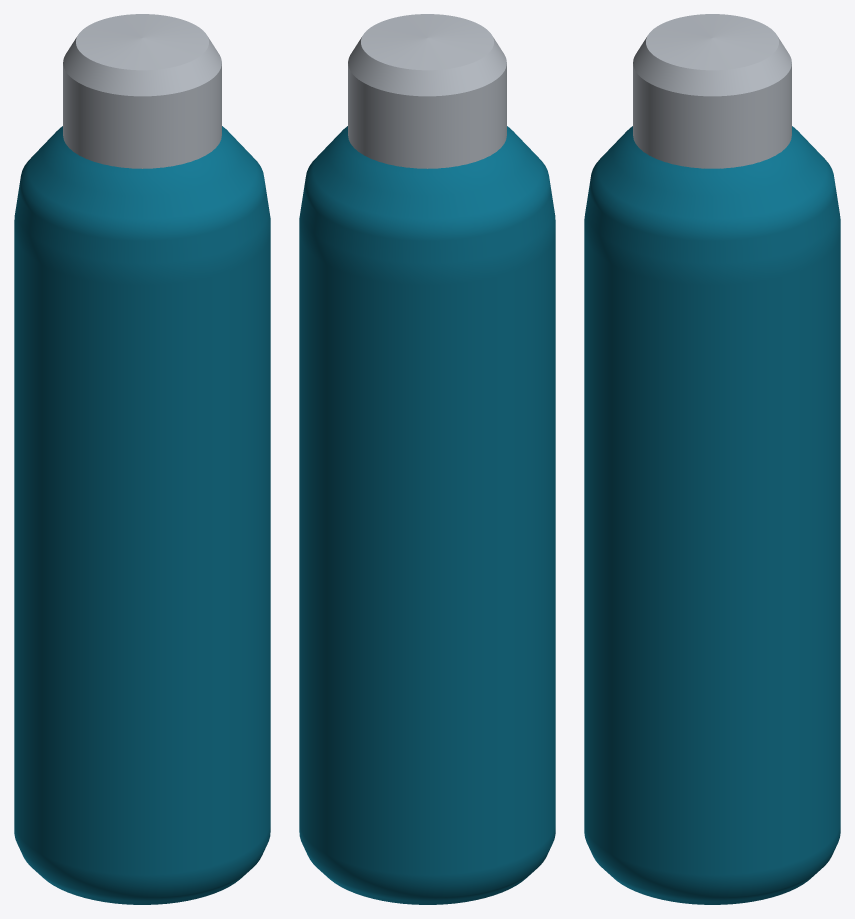
The model's file is water-bottle.glb.
3 views of the same model, side by side, from view 1: azimuth 30°, elevation 25°; view 2: azimuth 150°, elevation 25°; view 3: azimuth 270°, elevation 25° (orthographic).
Parts seen in each view (by area): view 1: Body, Cap; view 2: Body, Cap; view 3: Body, Cap.
Part boxes in pixels (bbox=[...]): Body: bbox=[14, 126, 270, 904]; Cap: bbox=[63, 14, 221, 168]; Body: bbox=[299, 126, 555, 904]; Cap: bbox=[348, 14, 506, 168]; Body: bbox=[584, 126, 840, 904]; Cap: bbox=[633, 14, 791, 168].
Size of the model in its own units: 0.073 by 0.258 by 0.073.
